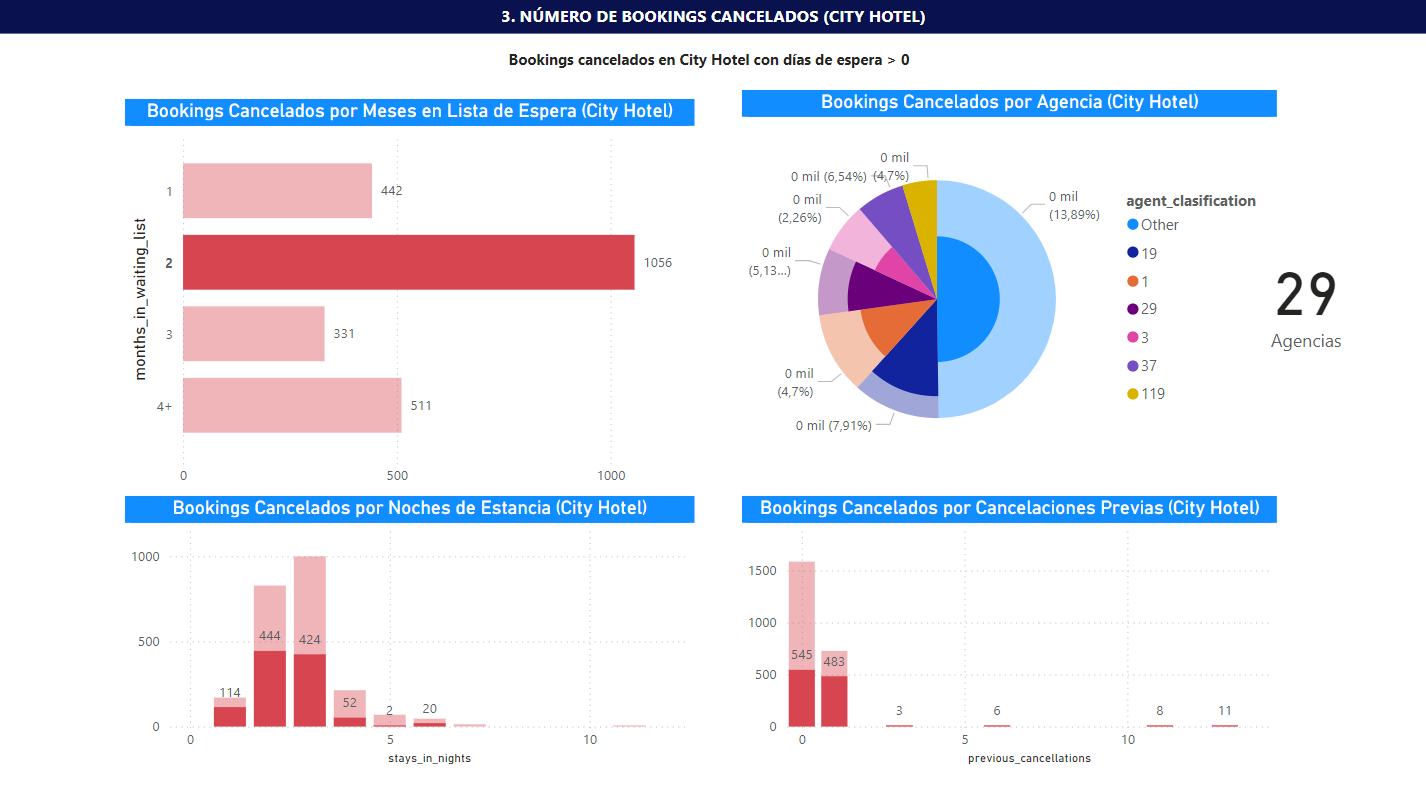

The dashboard page shown, as its layout file describes it:
{"tool":"powerbi","page":{"name":"3. City Hotel","canvas":[1280,720],"ordinal":2},"visuals":[{"type":"card","fields":{"Values":["Count(hotel_bookings_v2.agent)"]},"box":[1061.4,206,218.6,122.7],"z":0},{"type":"barChart","title":"Bookings Cancelados por Meses en Lista de Espera (City Hotel)","fields":{"Category":["hotel_bookings_v2.months_in_waiting_list"],"Y":["hotel_bookings_v2.bookings"]},"box":[112.9,89.6,509.7,355.6],"z":1000},{"type":"textbox","box":[451.4,40.3,375.3,34.9],"z":2000},{"type":"columnChart","title":"Bookings Cancelados por Cancelaciones Previas (City Hotel)","fields":{"Y":["hotel_bookings_v2.bookings"],"Category":["hotel_bookings_v2.previous_cancellations"]},"box":[665.5,445.2,479.2,245.4],"z":3000},{"type":"textbox","box":[0,0,1279.7,31.3],"z":4000},{"type":"columnChart","title":"Bookings Cancelados por Noches de Estancia (City Hotel)","fields":{"Y":["hotel_bookings_v2.bookings"],"Category":["hotel_bookings_v2.stays_in_nights"]},"box":[112.9,445.2,509.7,245.4],"z":5000},{"type":"pieChart","title":"Bookings Cancelados por Agencia (City Hotel)","fields":{"Y":["hotel_bookings_v2.bookings"],"Category":["hotel_bookings_v2.agent_clasification"]},"box":[665.5,81.5,479.2,355.6],"z":6000}]}

Visuals, with their boxes in screenshot pixels (x1, y1, x2, y2), scaled from the page's 1280x720 canvas onto the 1426x800 screenshot:
card - Count(hotel_bookings_v2.agent): (left=1182, top=229, right=1425, bottom=365)
"Bookings Cancelados por Meses en Lista de Espera (City Hotel)" barChart: (left=126, top=100, right=694, bottom=495)
textbox: (left=503, top=45, right=921, bottom=84)
"Bookings Cancelados por Cancelaciones Previas (City Hotel)" columnChart: (left=741, top=495, right=1275, bottom=767)
textbox: (left=0, top=0, right=1425, bottom=35)
"Bookings Cancelados por Noches de Estancia (City Hotel)" columnChart: (left=126, top=495, right=694, bottom=767)
"Bookings Cancelados por Agencia (City Hotel)" pieChart: (left=741, top=91, right=1275, bottom=486)
